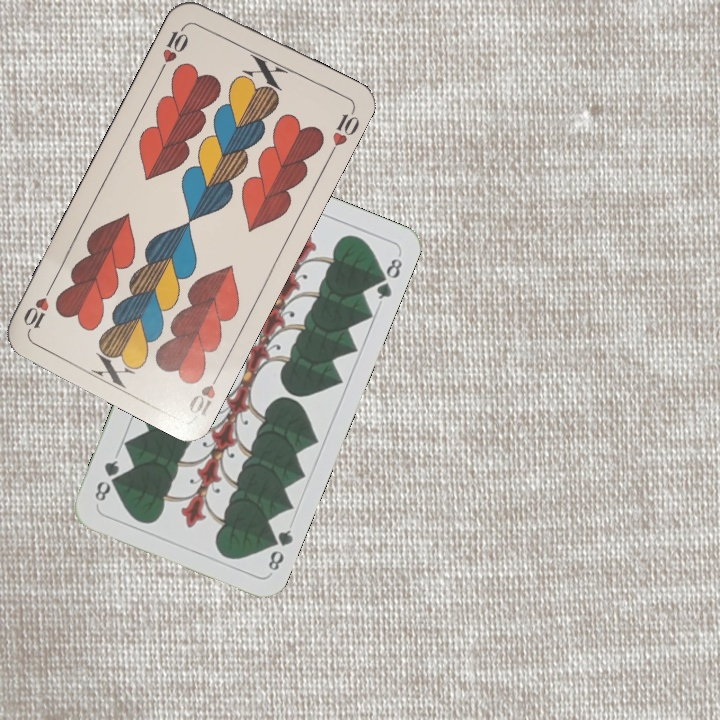G8: (263, 525, 296, 574)
H10: (184, 365, 225, 418), (156, 20, 191, 75)
